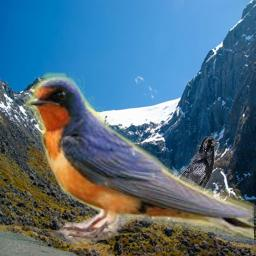Crow: (160, 136, 219, 205)
Swallow: (23, 72, 254, 248)
